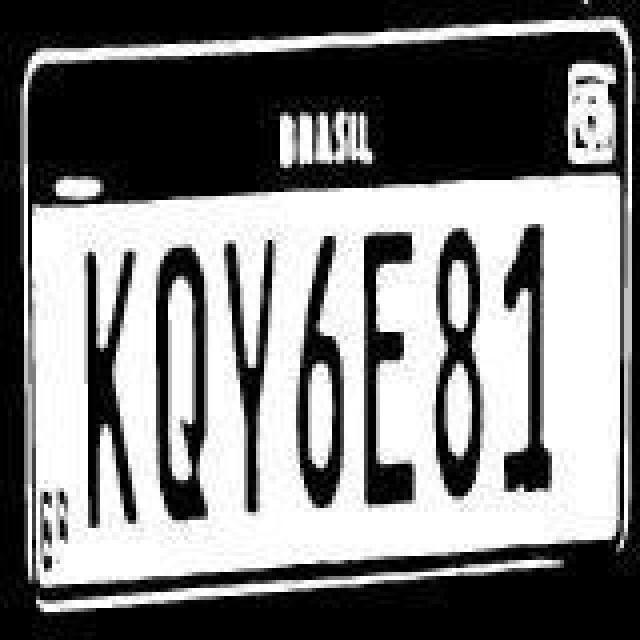1: (498, 222, 566, 498)
6: (290, 228, 350, 516)
8: (430, 224, 490, 504)
E: (354, 228, 422, 508)
K: (70, 252, 146, 532)
Q: (150, 242, 218, 526)
Y: (218, 236, 278, 516)
